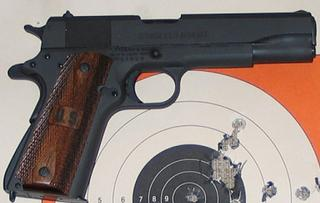gun: (1, 1, 320, 203)
